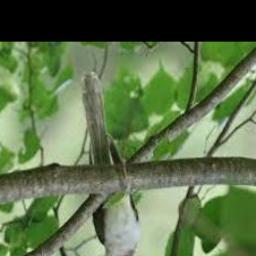Cuckoo: (83, 71, 140, 256)
